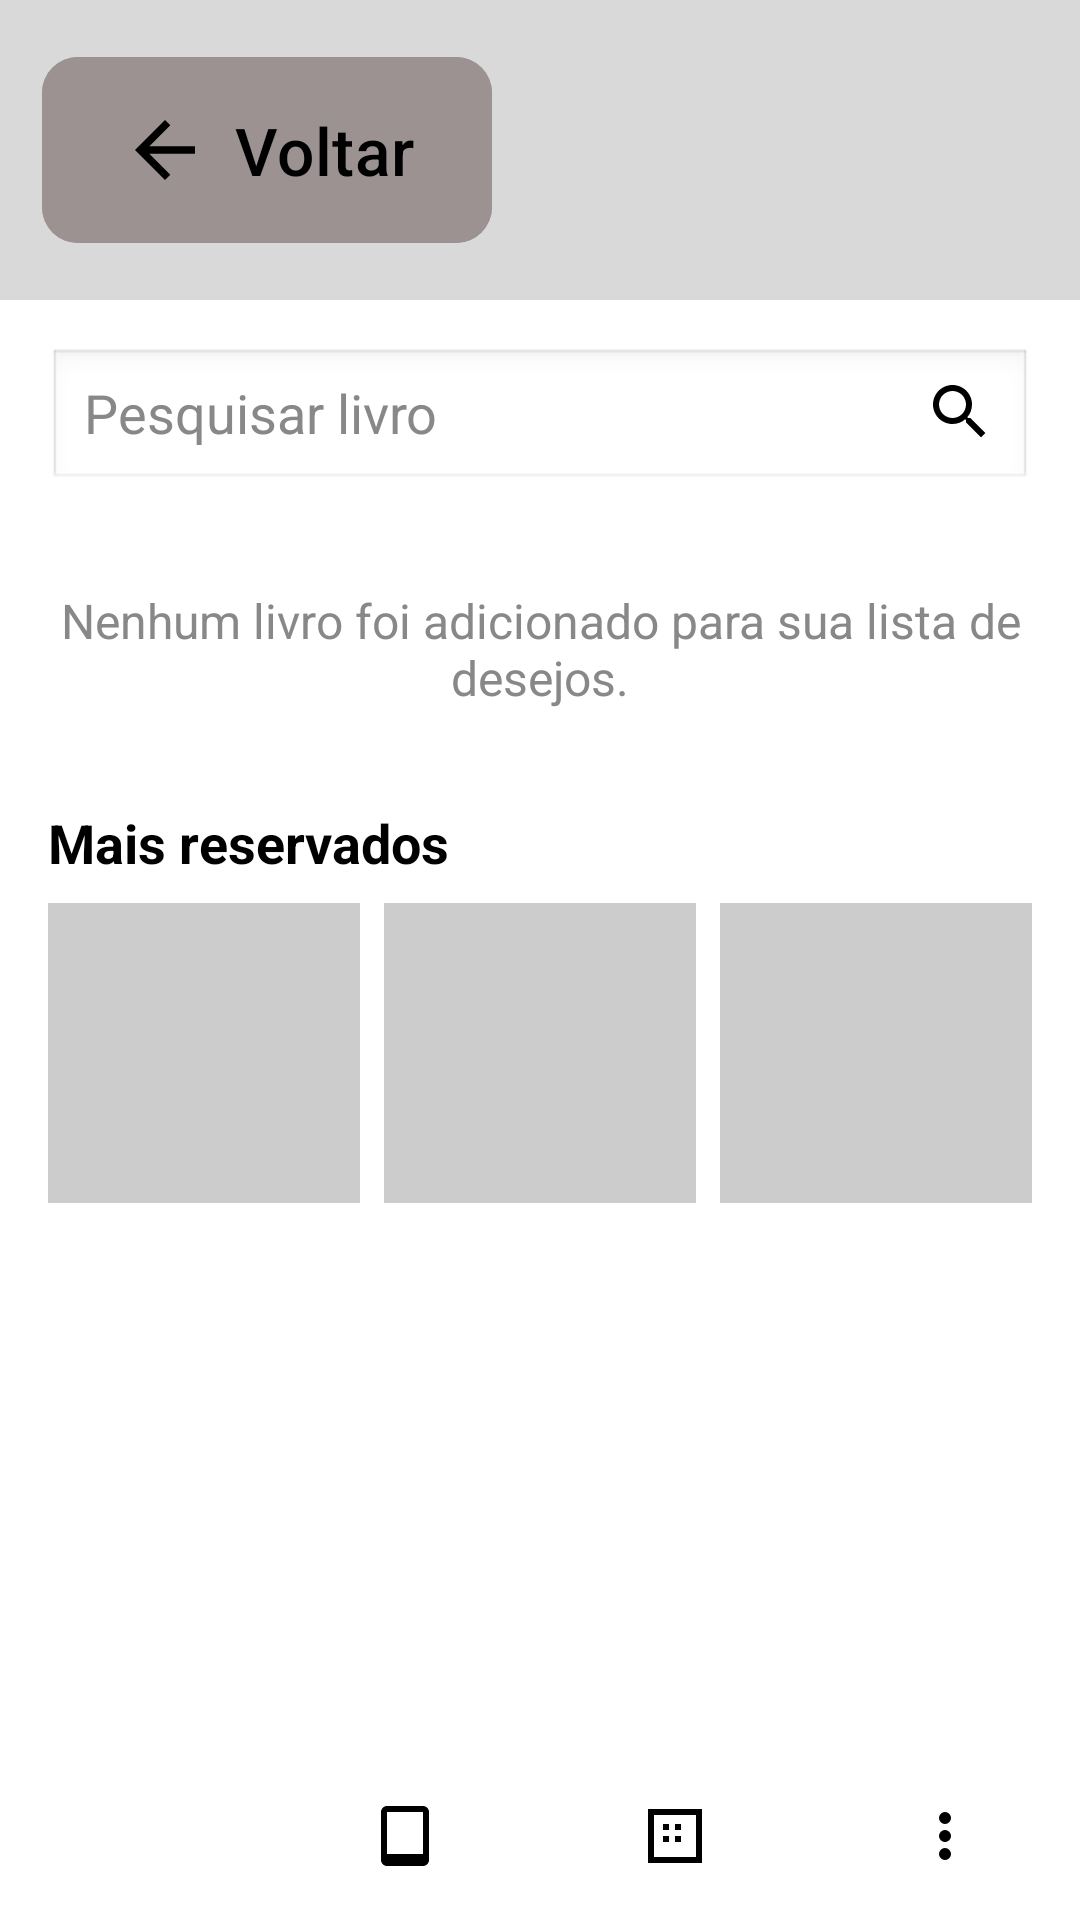

Icon bounding boxes for this 1080 x 1920 phone screenshot, format region(x1, y1, x2, y2):
Mais opções: region(939, 1812, 951, 1860)
search: region(933, 385, 985, 437)
